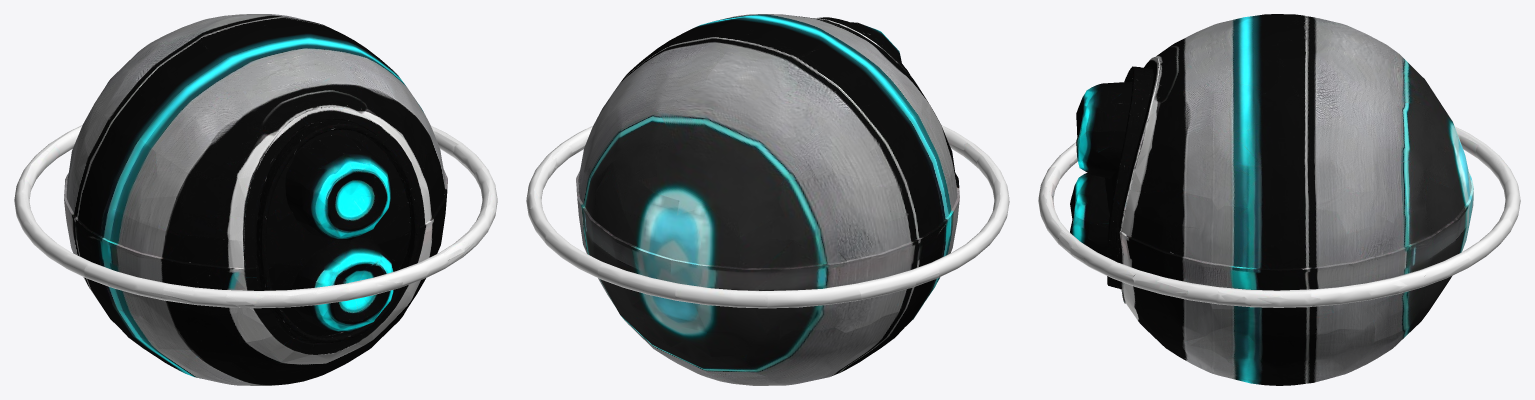
Rendered from lusorbe.glb.
The picture shows the model from 3 angles, left to right: view 1: azimuth 30°, elevation 25°; view 2: azimuth 150°, elevation 25°; view 3: azimuth 270°, elevation 25°; orthographic projection.
Visible parts, largest first — view 1: mesh_0; view 2: mesh_0; view 3: mesh_0.
Part boxes in pixels (left/top/right/bottom): mesh_0: left=14, top=14, right=497, bottom=385; mesh_0: left=526, top=14, right=1009, bottom=385; mesh_0: left=1038, top=14, right=1520, bottom=385.
Bounding box in the file's own units: 1.9 × 1.46 × 1.9.
1 material, 1 textured.
